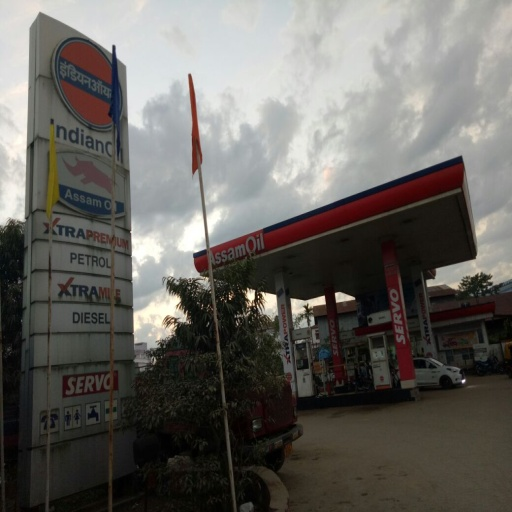roof: (194, 153, 490, 310)
